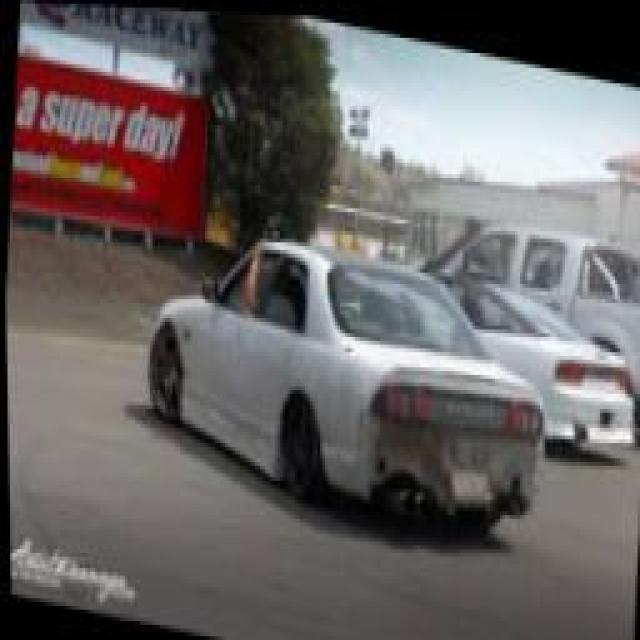replaceable: (362, 412, 531, 542)
